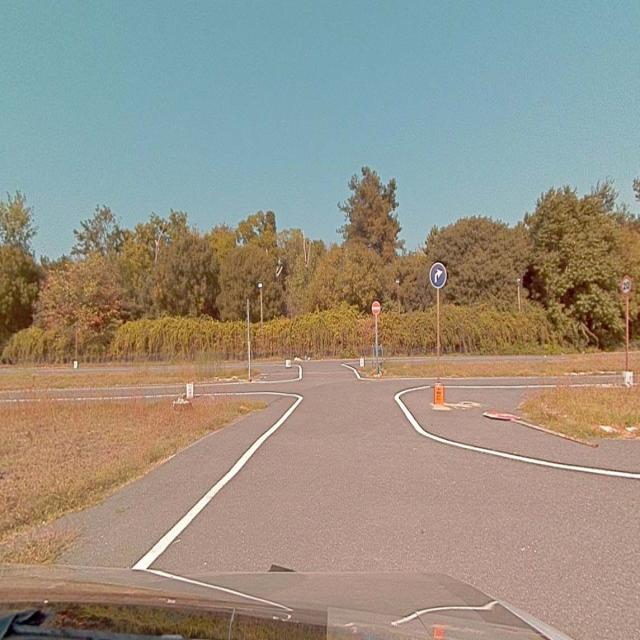20: (621, 276, 631, 295)
girisyok: (370, 300, 380, 316)
sag: (429, 263, 447, 287)
